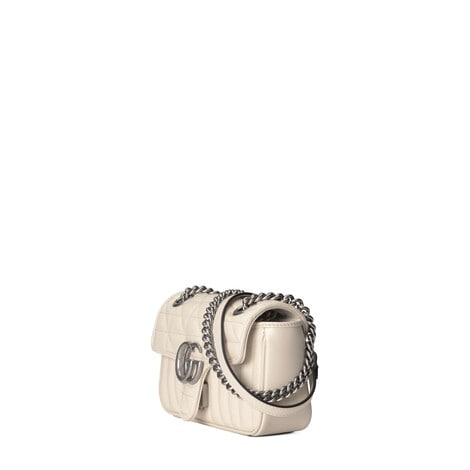Gucci: (151, 285, 321, 435), (168, 339, 209, 382)
